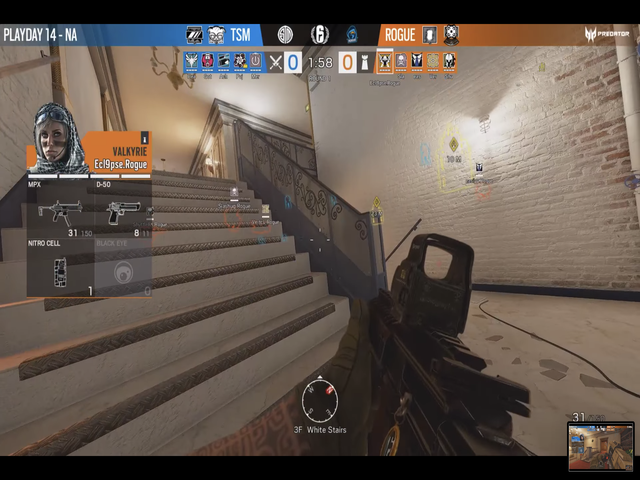0_blue: (284, 51, 304, 74)
